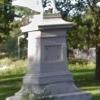Statue: (12, 2, 84, 83)
